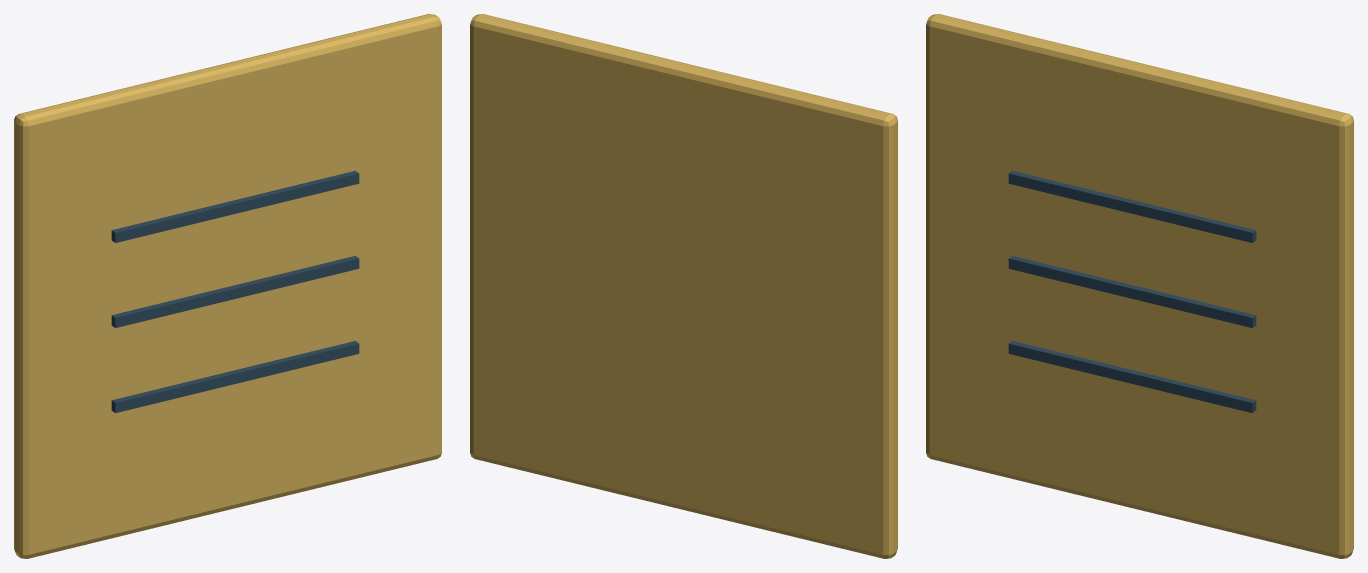
File: sticky_note.glb
3 renders of one model, left to right at view 1: azimuth 30°, elevation 25°; view 2: azimuth 150°, elevation 25°; view 3: azimuth 330°, elevation 25°, orthographic.
Visible parts, largest first — view 1: sticky_note_Mesh; view 2: sticky_note_Mesh; view 3: sticky_note_Mesh.
Boxes of the visible parts, <box> form: sticky_note_Mesh: <box>14,14,441,558</box>; sticky_note_Mesh: <box>470,14,897,558</box>; sticky_note_Mesh: <box>926,14,1353,558</box>.
Size of the model in its own units: 0.13 by 0.13 by 0.008.
